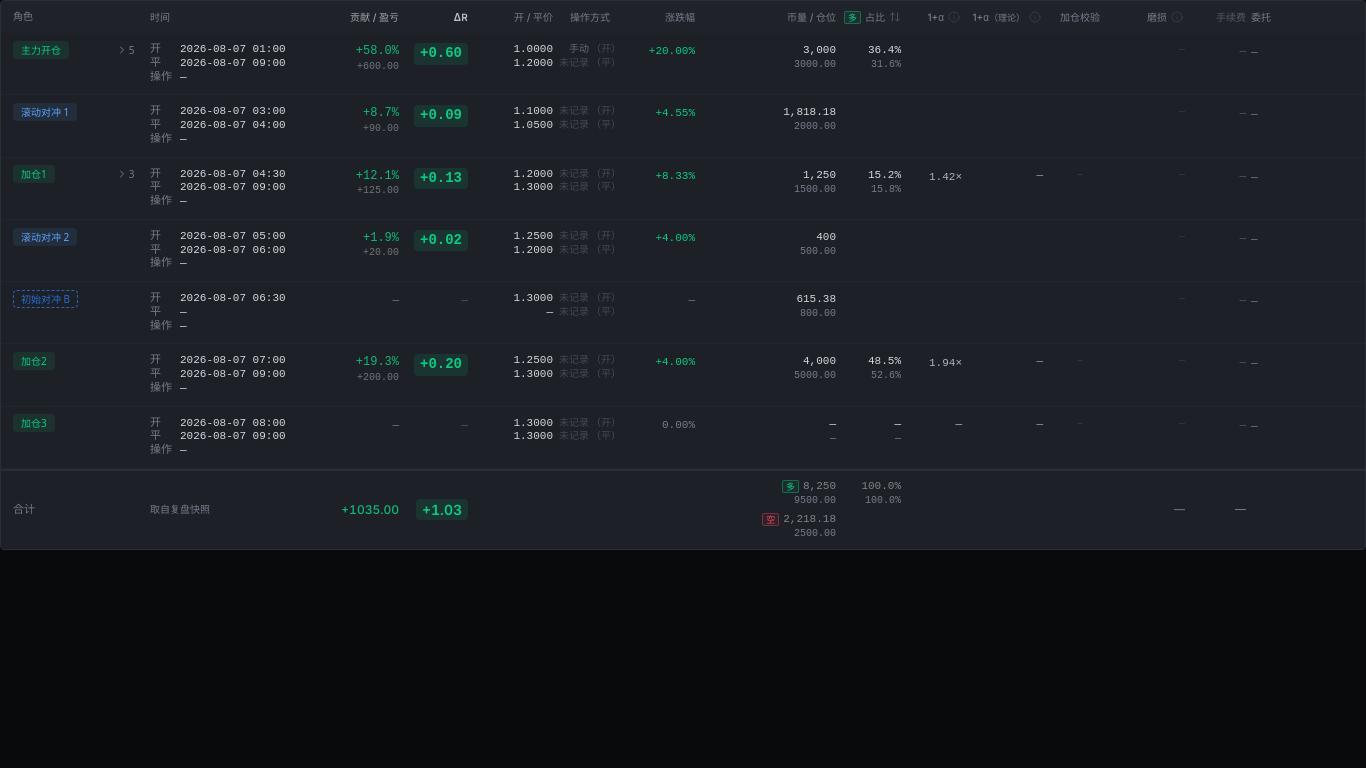
Test case: 【用户要求】点击「多单占比」列头排序 › 点「多单占比」：降序 → 升序 → 默认顺序；没有多单占比的行（空单、挂单中、没有仓位数据的腿）始终按原先后沉底
The width and height of the screenshot is (1366, 768).
Click the button with aria-label "按多单占比排序：".
click(871, 17)  # box x1=841 y1=10 x2=901 y2=24
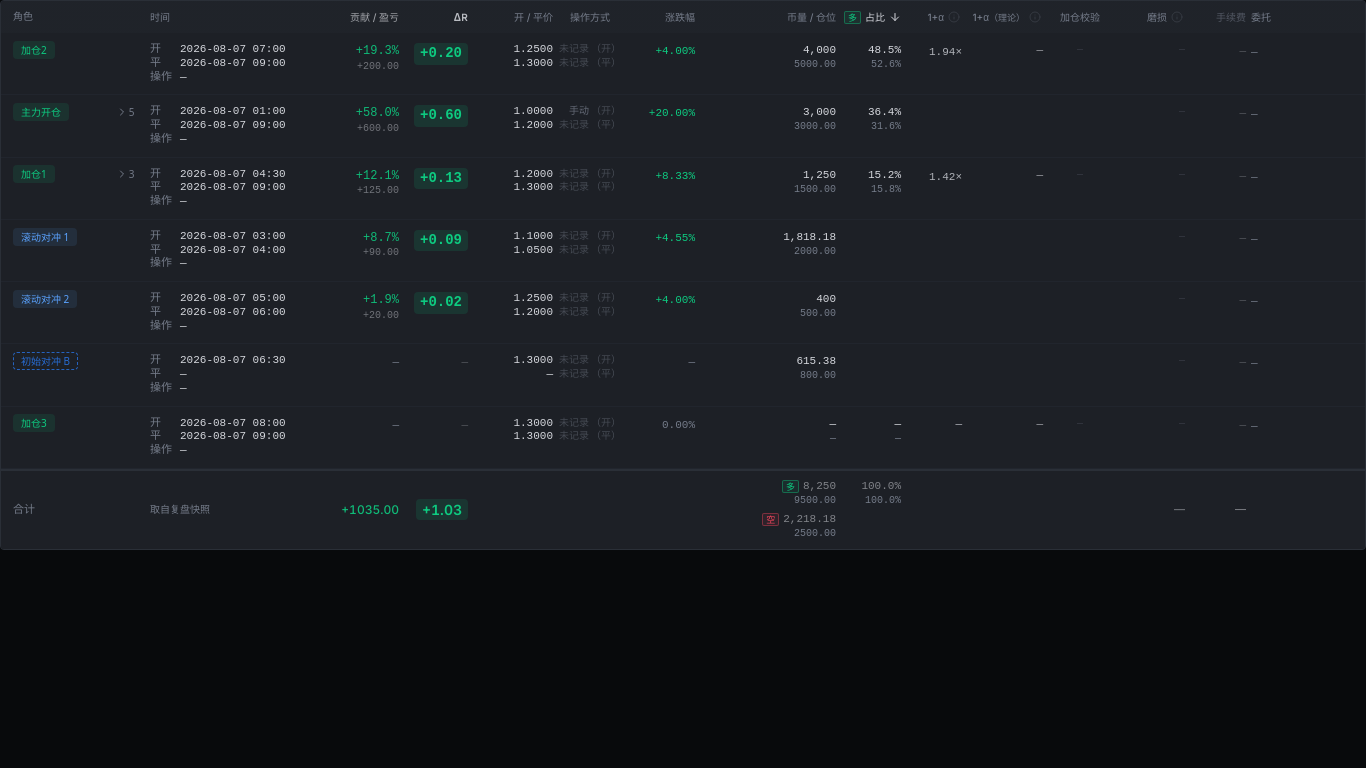
Expected: the button with aria-label "按多单占比排序：" has attribute aria-label="按多单占比排序：当前降序，点击改为升序"
Click the button with aria-label "按多单占比排序：".
click(871, 17)  # box x1=841 y1=10 x2=901 y2=24
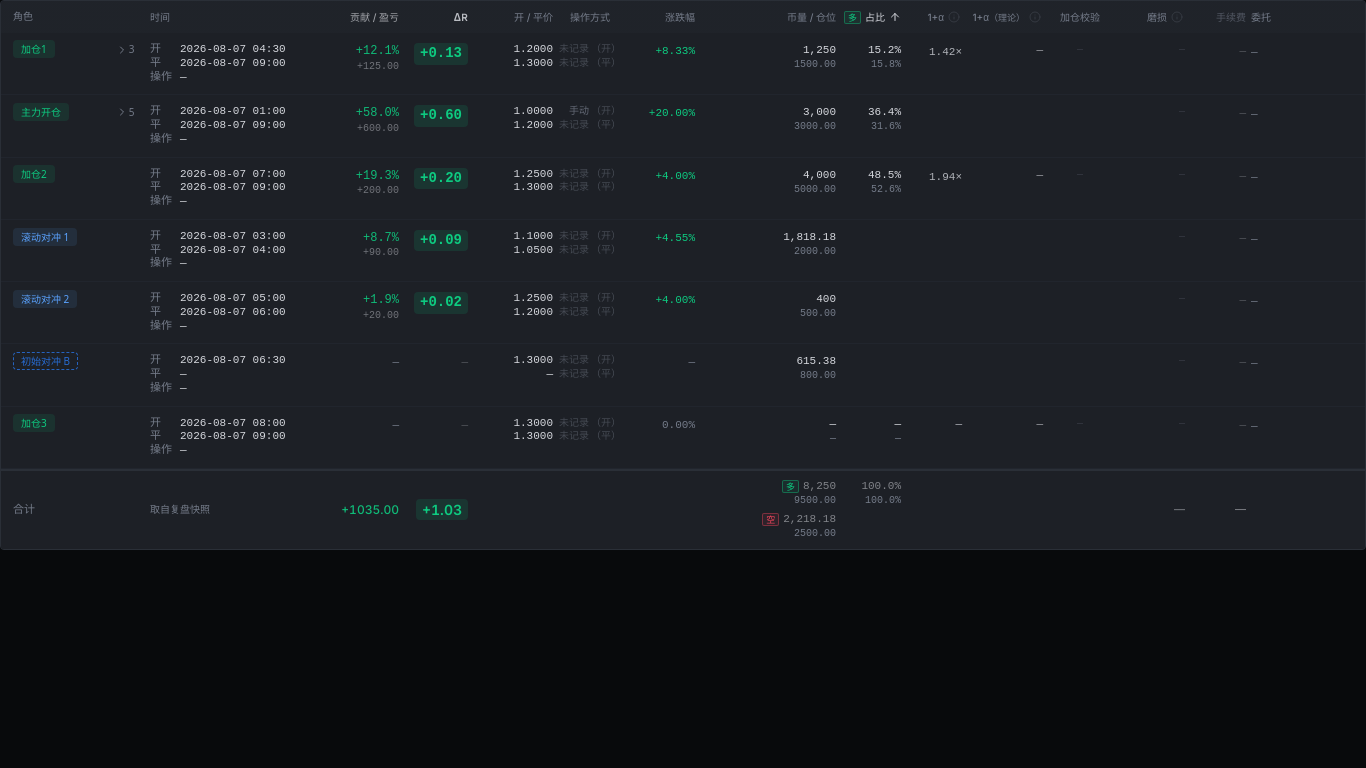
Expected: the button with aria-label "按多单占比排序：" has attribute aria-label="按多单占比排序：当前升序，点击恢复默认顺序"
Click the button with aria-label "按多单占比排序：".
click(871, 17)  # box x1=841 y1=10 x2=901 y2=24
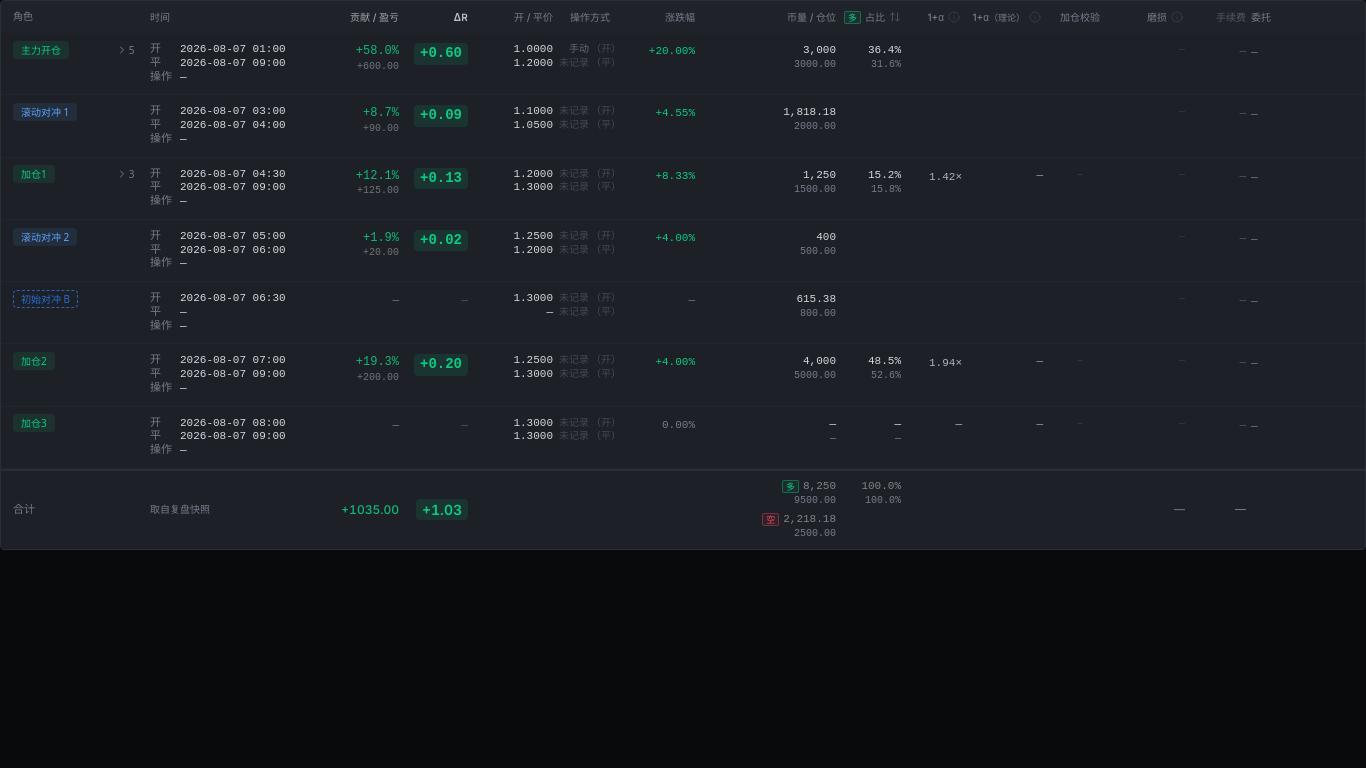
Expected: the button with aria-label "按多单占比排序：" has attribute aria-label="按多单占比排序：当前默认顺序，点击改为降序", x1=841 y1=10 x2=901 y2=24
